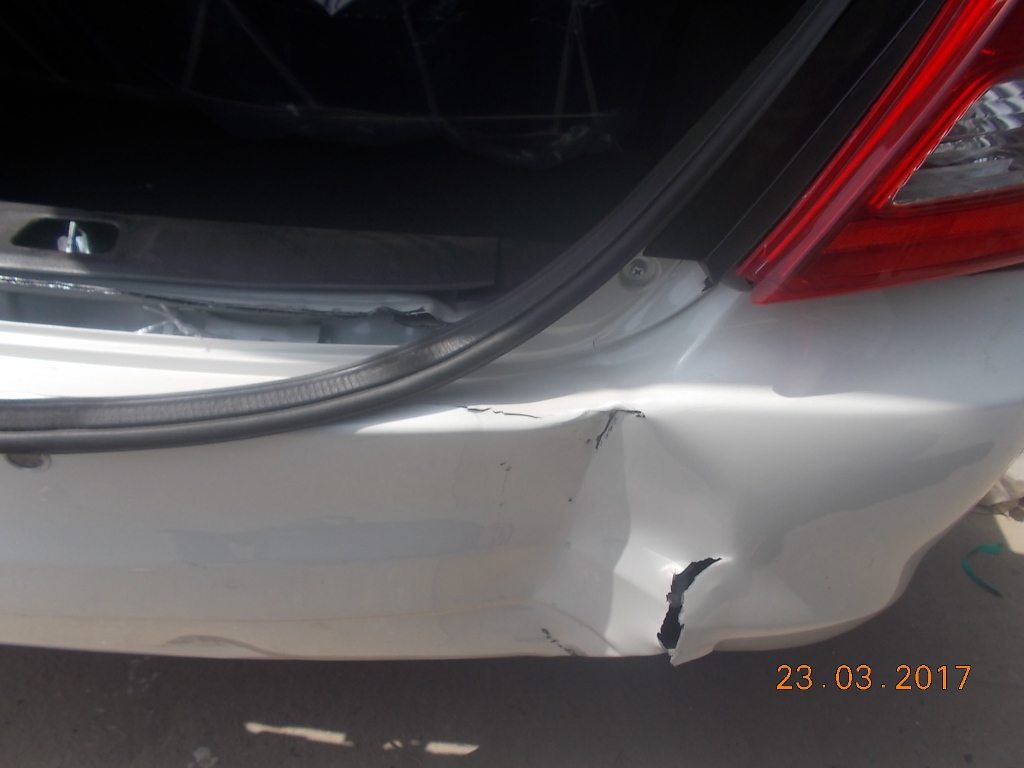Dent: (483, 406, 652, 658)
Tear: (658, 554, 723, 660)
